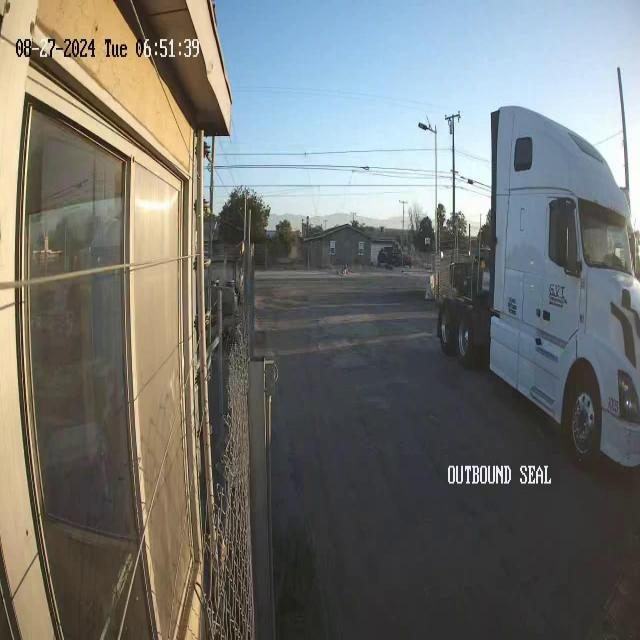TRUCK_IN: (436, 102, 640, 470)
